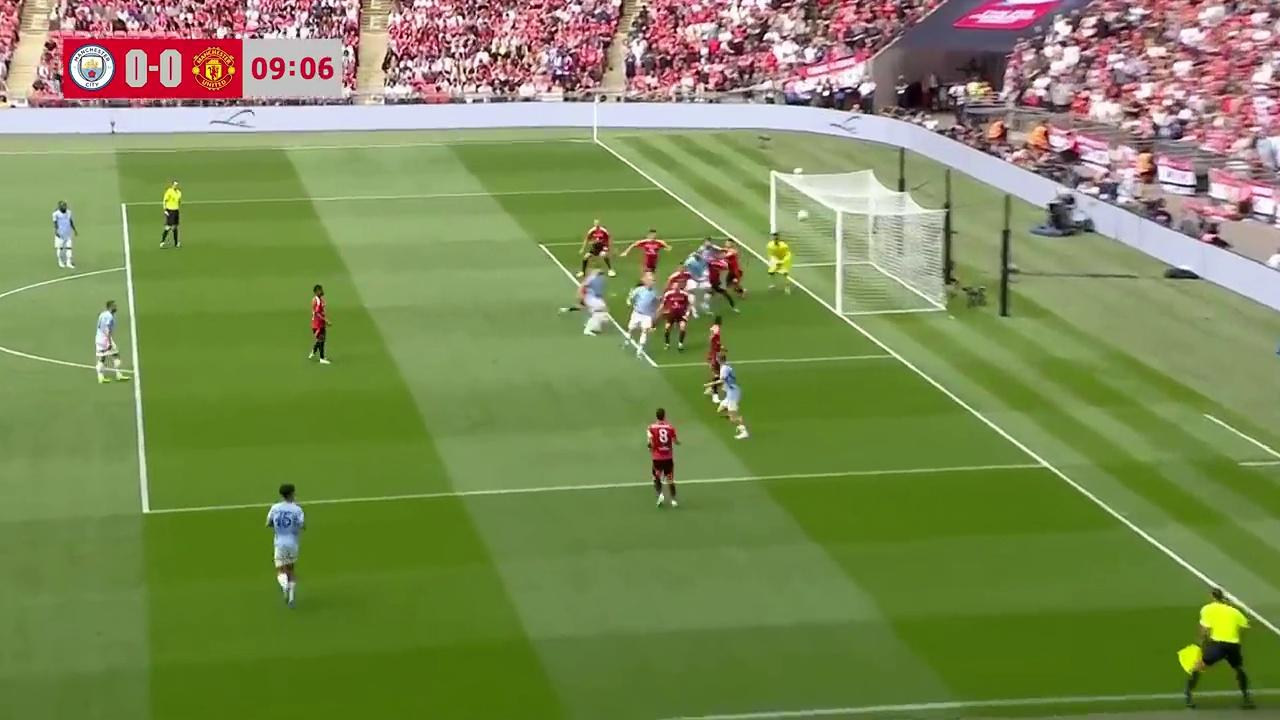player: (264, 483, 305, 607), (563, 262, 617, 331), (678, 237, 729, 310), (647, 407, 682, 508), (689, 238, 740, 307), (709, 354, 748, 438), (621, 227, 671, 290), (619, 290, 659, 367), (579, 266, 622, 336), (660, 261, 705, 326), (620, 284, 660, 351), (94, 300, 124, 383), (655, 284, 690, 350), (559, 259, 594, 319), (579, 220, 615, 277), (307, 285, 331, 364), (711, 255, 743, 312), (718, 240, 747, 301), (51, 200, 77, 268), (766, 234, 792, 295), (702, 316, 727, 377)
referee: (1182, 586, 1254, 709), (159, 179, 183, 249)
